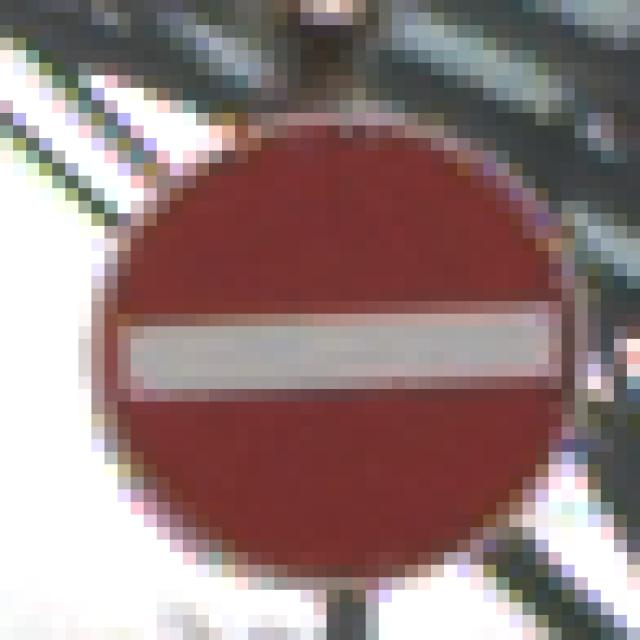Sens-Interdit: (79, 110, 571, 580)
